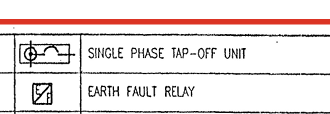Single Phase Tap-Off Unit: (18, 41, 77, 69)
